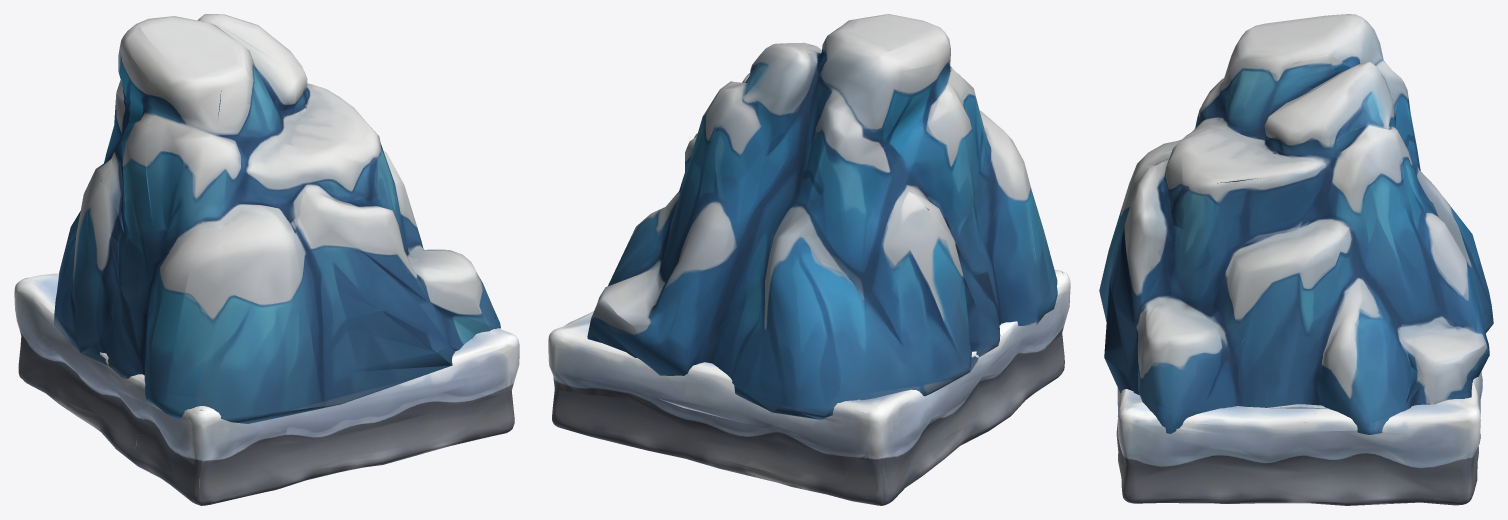
The model's file is mtn_snowy.glb.
3 renders of one model, left to right at view 1: azimuth 30°, elevation 25°; view 2: azimuth 150°, elevation 25°; view 3: azimuth 270°, elevation 25°, orthographic. The views are drawn at different scales.
Parts seen in each view (by area): view 1: Mesh0; view 2: Mesh0; view 3: Mesh0.
Boxes of the visible parts, x1=… form: Mesh0: x1=14, y1=14, x2=519, y2=505; Mesh0: x1=548, y1=14, x2=1070, y2=505; Mesh0: x1=1099, y1=14, x2=1493, y2=505.
Bounding box in the file's own units: 1.95 × 2.13 × 2.04.
2 materials, 2 textured.
